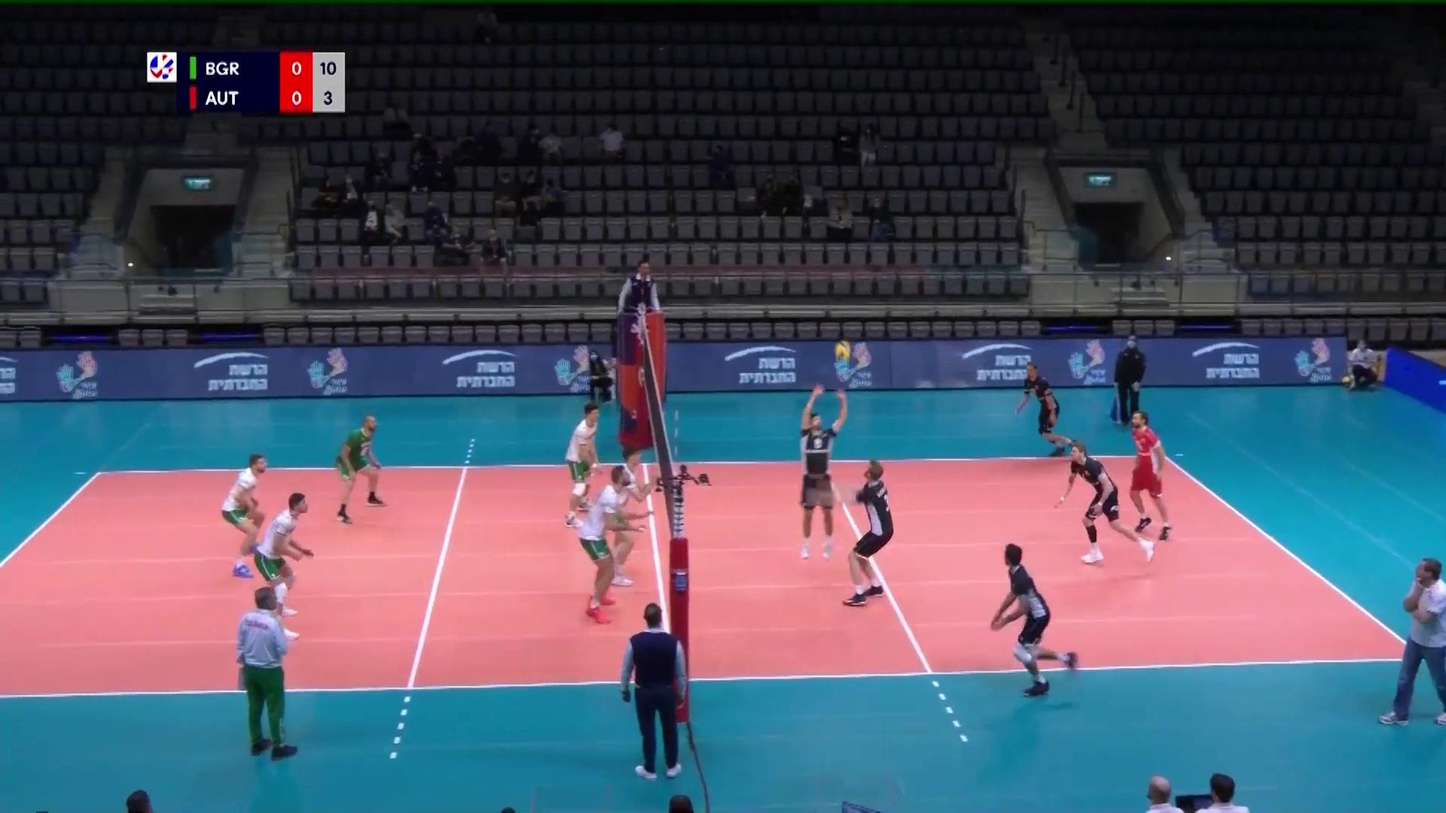ball: (832, 340, 855, 362)
